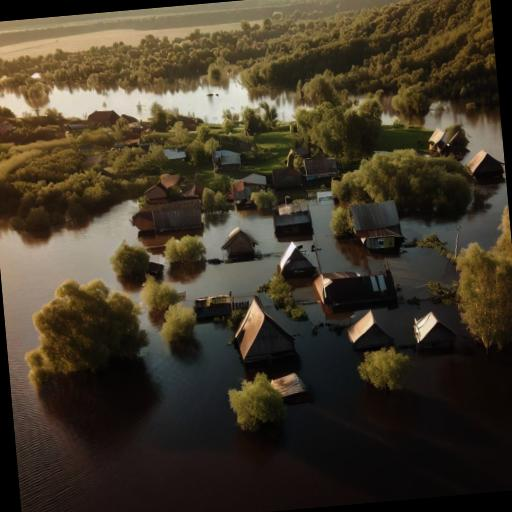flood: (0, 199, 512, 512), (163, 211, 288, 301), (48, 79, 298, 122), (402, 179, 509, 251), (296, 200, 385, 274), (424, 101, 505, 162), (0, 91, 30, 116), (294, 280, 315, 302)
house: (233, 294, 298, 368), (314, 265, 398, 312), (132, 192, 204, 246), (346, 198, 402, 252), (340, 308, 396, 352), (272, 196, 314, 242), (412, 308, 458, 350), (272, 242, 322, 280), (189, 294, 238, 324), (220, 226, 258, 262), (466, 147, 506, 181), (303, 156, 338, 182), (271, 166, 304, 190), (87, 109, 120, 126), (143, 180, 170, 200)
